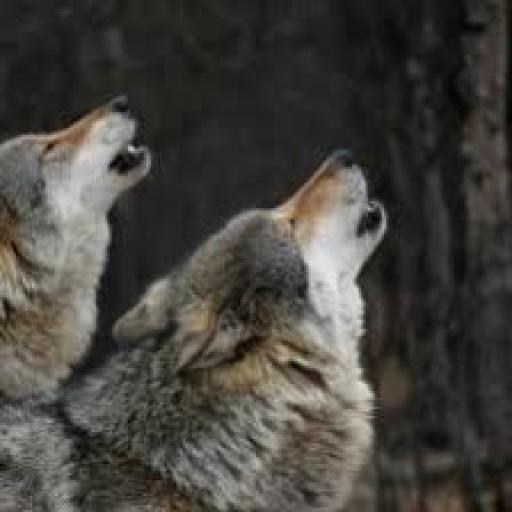wolf: (0, 141, 413, 512), (0, 95, 155, 379)
